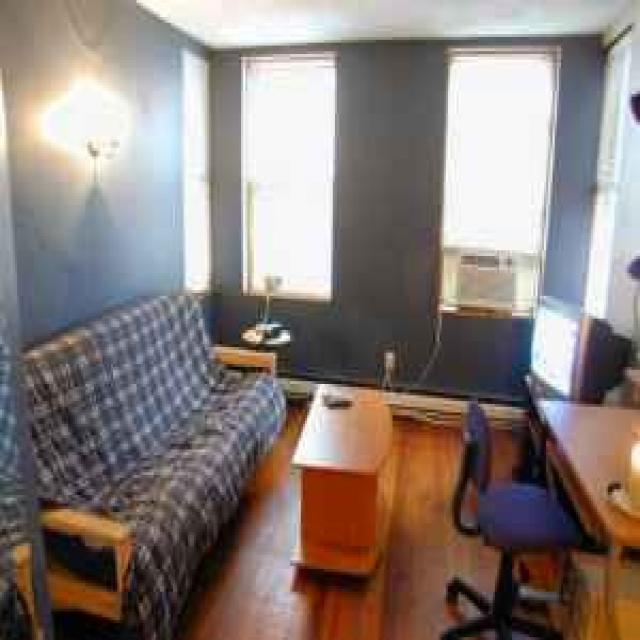2001: (437, 48, 553, 313), (241, 54, 335, 299), (578, 34, 629, 304)
ceiling beam: (139, 0, 629, 48)
floor -X: (4, 381, 636, 637)
furniture crop: (288, 375, 393, 572)
sofa bed: (2, 290, 286, 637)
swivel chair crop: (442, 390, 572, 637)
table -X: (514, 373, 634, 629)
table runner: (241, 319, 286, 347)
tv camera: (527, 293, 629, 404)
wall clock: (209, 34, 604, 410), (2, 0, 213, 634), (563, 0, 636, 594)
